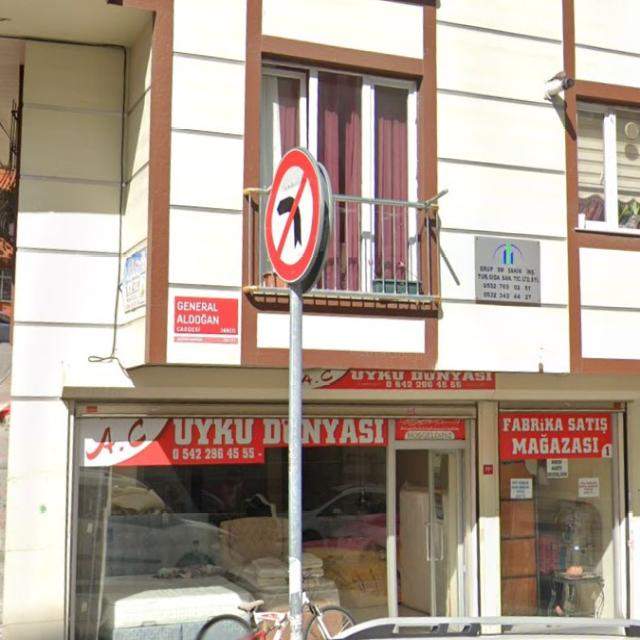soladonulmez: (264, 149, 316, 283)
